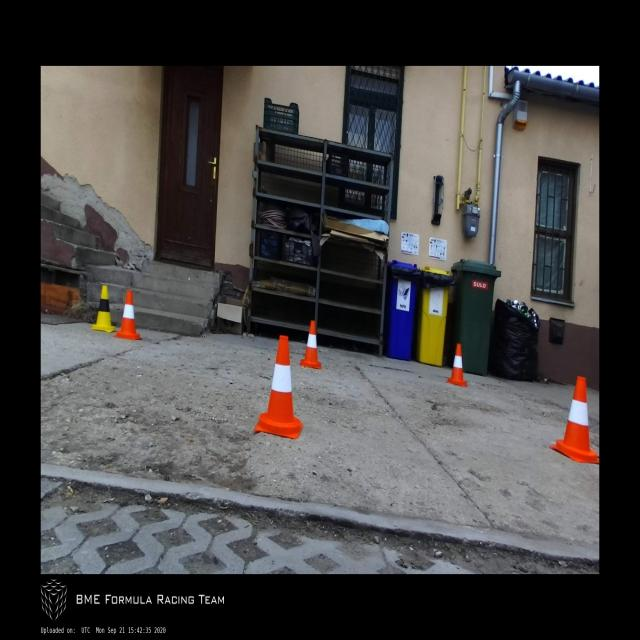orange_cone: (254, 335, 303, 440), (549, 376, 599, 464), (113, 290, 142, 341), (300, 320, 322, 369), (446, 343, 467, 387)
yellow_cone: (92, 284, 116, 332)
